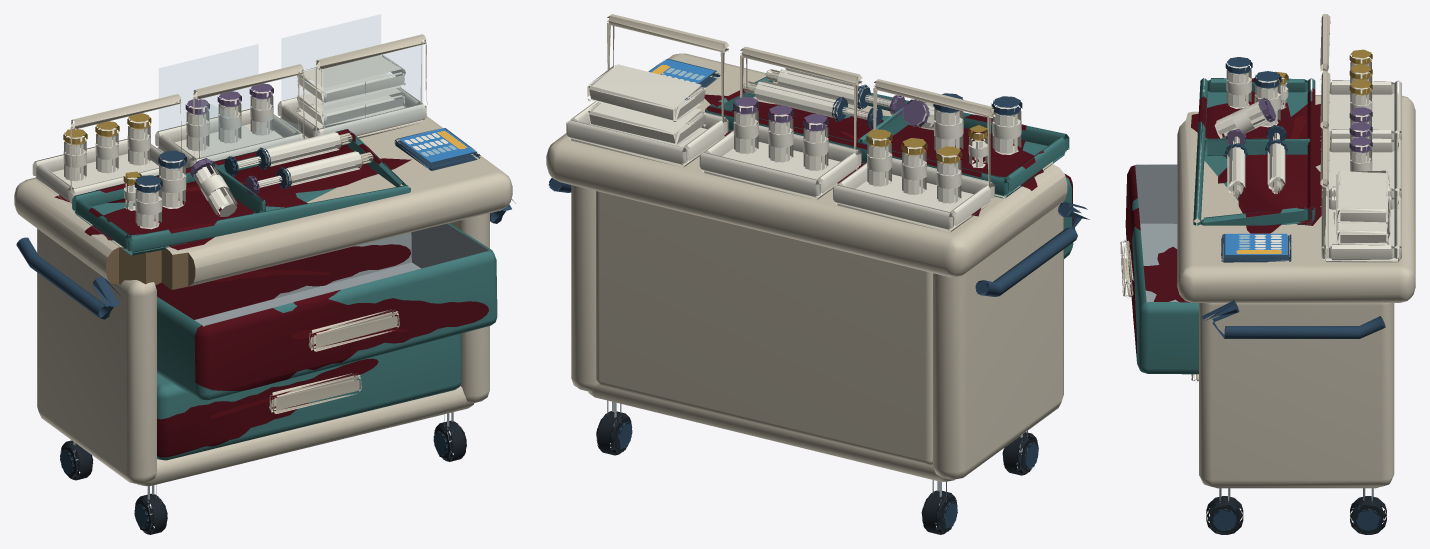
File: sedaprep.glb
The picture shows the model from 3 angles, left to right: view 1: azimuth 30°, elevation 25°; view 2: azimuth 150°, elevation 25°; view 3: azimuth 270°, elevation 25°; orthographic projection. The views are drawn at different scales.
Parts seen in each view (by area): view 1: Outbreak_SedaPrep_standard_Static; view 2: Outbreak_SedaPrep_standard_Static; view 3: Outbreak_SedaPrep_standard_Static.
Part boxes in pixels (x1,y1,x2,y2): Outbreak_SedaPrep_standard_Static: [14, 14, 515, 534]; Outbreak_SedaPrep_standard_Static: [546, 14, 1089, 534]; Outbreak_SedaPrep_standard_Static: [1120, 14, 1415, 534].
Bounding box in the file's own units: 1.12 × 0.9834 × 0.7228.
13 materials, 1 textured.
